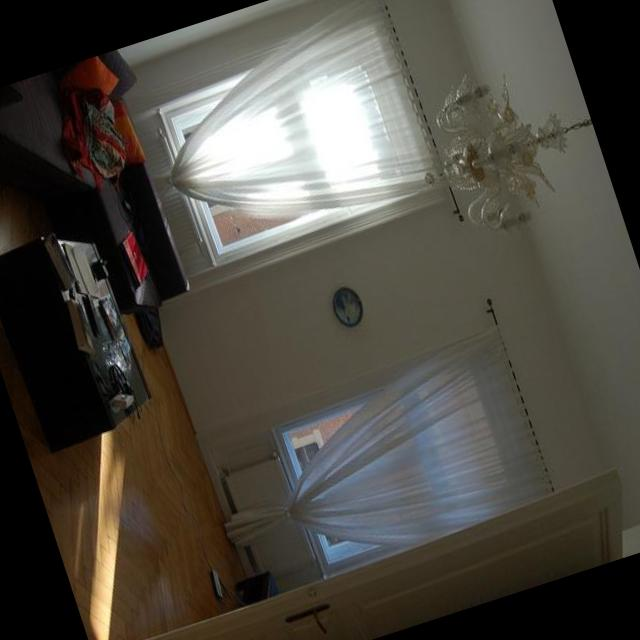book: (61, 236, 100, 304), (40, 230, 81, 294), (62, 295, 98, 358), (96, 294, 126, 342)
clock: (328, 283, 367, 330)
laptop: (116, 230, 151, 289)
mouse: (119, 198, 134, 218)
remote: (84, 294, 104, 338), (208, 568, 224, 600), (68, 288, 78, 303)
sofa: (0, 46, 206, 362)
